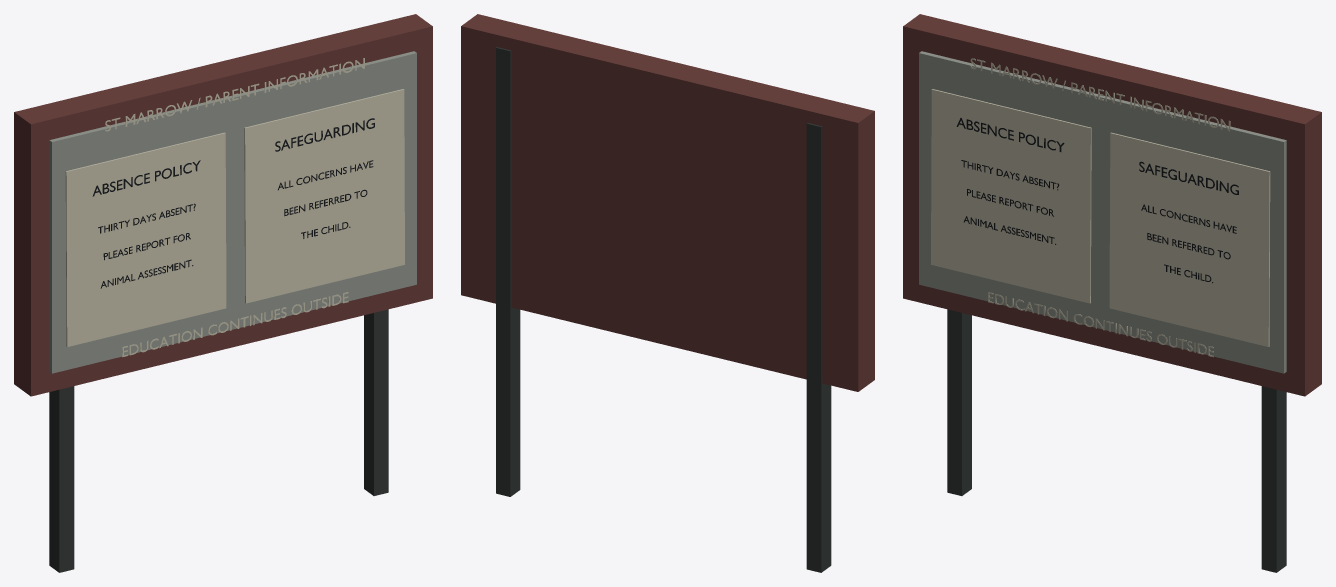
Rendered from st-marrow-notice.glb.
3 renders of one model, left to right at view 1: azimuth 30°, elevation 25°; view 2: azimuth 150°, elevation 25°; view 3: azimuth 330°, elevation 25°, orthographic.
Visible parts, largest first — view 1: School notice frame, School notice backing, School circular paper.001, School circular paper, School notice upright, School notice upright.001, School notice name, Notice footer, Circular title.001, Circular title; view 2: School notice frame, School notice upright, School notice upright.001; view 3: School notice frame, School notice backing, School circular paper.001, School circular paper, School notice upright.001, School notice upright, School notice name, Notice footer, Circular title, Circular title.001.
Boxes of the visible parts, left/top/right/bottom form: School notice frame: left=14, top=14, right=432, bottom=396; School notice backing: left=49, top=51, right=416, bottom=373; School circular paper.001: left=244, top=89, right=404, bottom=303; School circular paper: left=65, top=132, right=226, bottom=346; School notice upright: left=49, top=386, right=74, bottom=572; School notice upright.001: left=364, top=309, right=388, bottom=495; School notice name: left=105, top=58, right=364, bottom=131; Notice footer: left=122, top=292, right=348, bottom=357; Circular title.001: left=275, top=118, right=374, bottom=151; Circular title: left=92, top=160, right=200, bottom=196; School notice frame: left=461, top=14, right=874, bottom=391; School notice upright: left=806, top=123, right=831, bottom=572; School notice upright.001: left=496, top=47, right=520, bottom=496; School notice frame: left=903, top=14, right=1321, bottom=396; School notice backing: left=919, top=51, right=1286, bottom=373; School circular paper.001: left=1109, top=132, right=1270, bottom=346; School circular paper: left=931, top=89, right=1091, bottom=303; School notice upright.001: left=1261, top=386, right=1286, bottom=572; School notice upright: left=947, top=309, right=971, bottom=495; School notice name: left=970, top=58, right=1230, bottom=131; Notice footer: left=988, top=292, right=1213, bottom=357; Circular title: left=956, top=118, right=1064, bottom=151; Circular title.001: left=1139, top=161, right=1238, bottom=194.
Size of the model in its own units: 2.07 by 2.28 by 0.2021.
